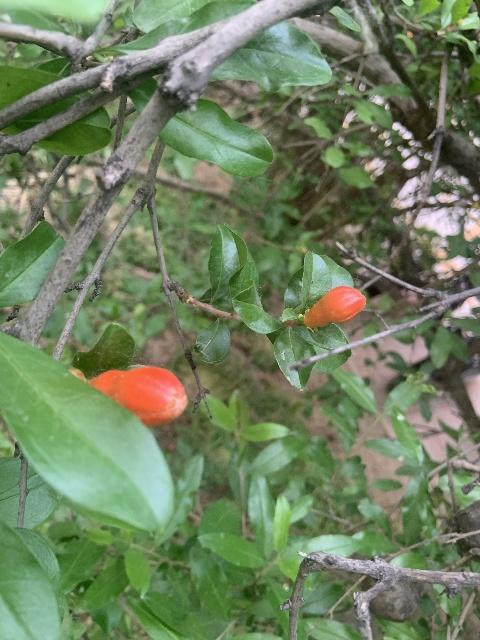bud: (85, 365, 187, 427), (305, 285, 366, 327)
